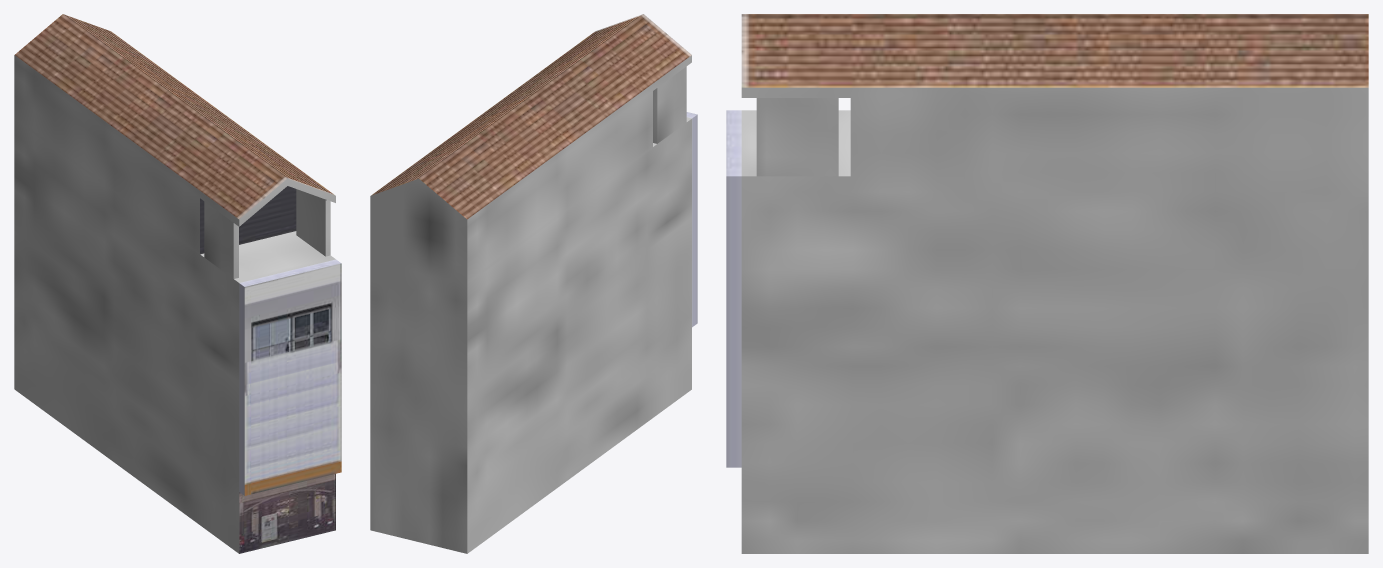
3 renders of one model, left to right at view 1: azimuth 30°, elevation 25°; view 2: azimuth 150°, elevation 25°; view 3: azimuth 270°, elevation 25°, orthographic. The views are drawn at different scales.
Visible parts, largest first — view 1: 5daff48f5bb8830f98dcff28.001; view 2: 5daff48f5bb8830f98dcff28.001; view 3: 5daff48f5bb8830f98dcff28.001.
Part boxes in pixels (box(x1,y1,x2,y2)): 5daff48f5bb8830f98dcff28.001: box(14, 14, 341, 553); 5daff48f5bb8830f98dcff28.001: box(370, 14, 697, 553); 5daff48f5bb8830f98dcff28.001: box(726, 14, 1368, 553).
Bounding box in the file's own units: 6.22 × 22.3 × 25.61.
Materials: 1 (1 with a texture image).
